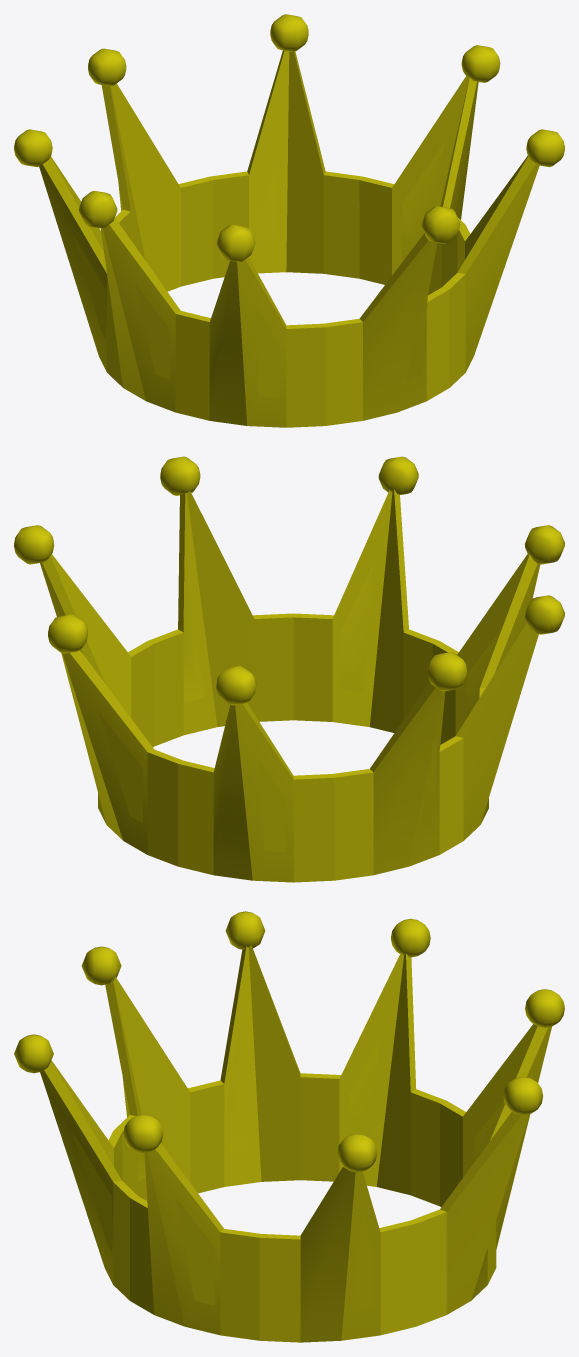
Rendered from Crown Model.fbx.
3 views of the same model, one above another, from view 1: azimuth 30°, elevation 25°; view 2: azimuth 150°, elevation 25°; view 3: azimuth 270°, elevation 25° (orthographic). The views are drawn at different scales.
Visible parts, largest first — view 1: Crown_Model; view 2: Crown_Model; view 3: Crown_Model.
Part boxes in pixels (x1,y1,x2,y2): Crown_Model: (14, 14, 564, 427); Crown_Model: (14, 456, 564, 882); Crown_Model: (14, 911, 564, 1342).
Bounding box in the file's own units: 54.26 × 25.11 × 52.82.
